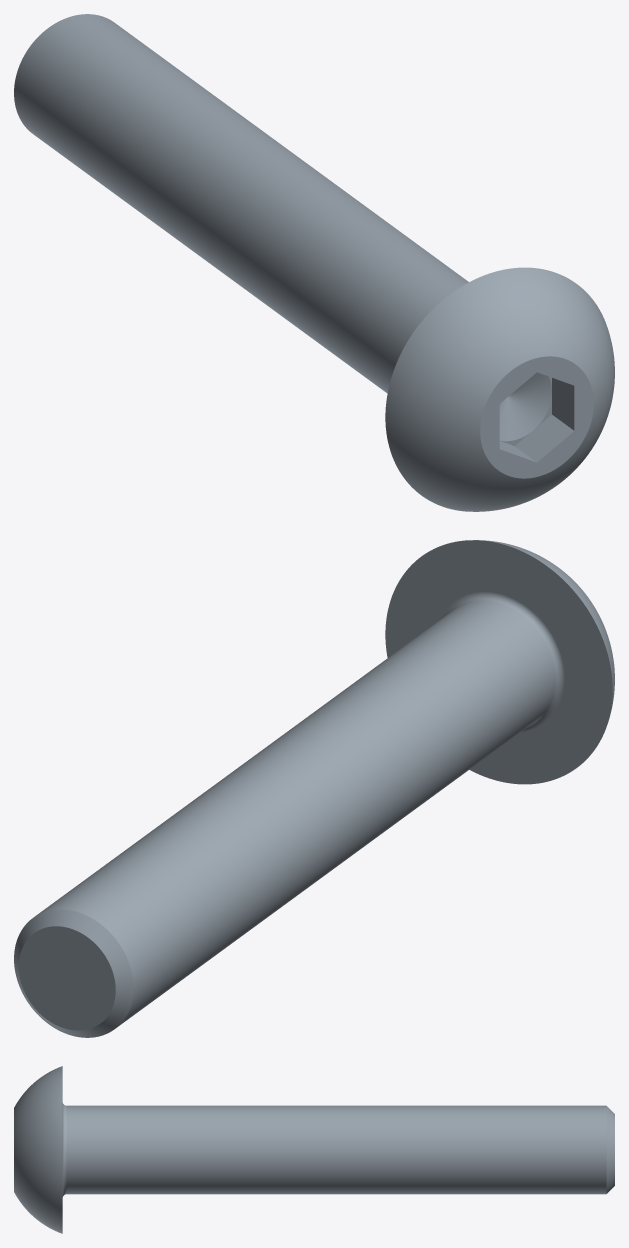
Rendered from Socket_button_head_screw_M4x0_7_x_25.obj.
The picture shows the model from 3 angles, top to bottom: view 1: azimuth 30°, elevation 25°; view 2: azimuth 150°, elevation 25°; view 3: azimuth 270°, elevation 25°; orthographic projection. The views are drawn at different scales.
Parts seen in each view (by area): view 1: mesh2, mesh5, mesh6, mesh14, mesh11, mesh12; view 2: mesh2, mesh4, mesh0, mesh1, mesh3, mesh5; view 3: mesh2, mesh5, mesh1, mesh3.
Boxes of the visible parts, left/top/right/bottom form: mesh2: left=14, top=14, right=468, bottom=393; mesh5: left=385, top=267, right=614, bottom=511; mesh6: left=480, top=356, right=593, bottom=478; mesh14: left=499, top=372, right=551, bottom=441; mesh11: left=515, top=415, right=573, bottom=462; mesh12: left=552, top=378, right=574, bottom=430; mesh2: left=36, top=600, right=555, bottom=1026; mesh4: left=385, top=540, right=612, bottom=784; mesh0: left=18, top=926, right=115, bottom=1030; mesh1: left=14, top=909, right=133, bottom=1037; mesh3: left=438, top=591, right=564, bottom=732; mesh5: left=473, top=540, right=614, bottom=718; mesh2: left=67, top=1105, right=606, bottom=1194; mesh5: left=14, top=1066, right=62, bottom=1233; mesh1: left=606, top=1106, right=614, bottom=1193; mesh3: left=62, top=1103, right=66, bottom=1196.
Size of the model in its own units: 0.0076 by 0.0076 by 0.0272.
